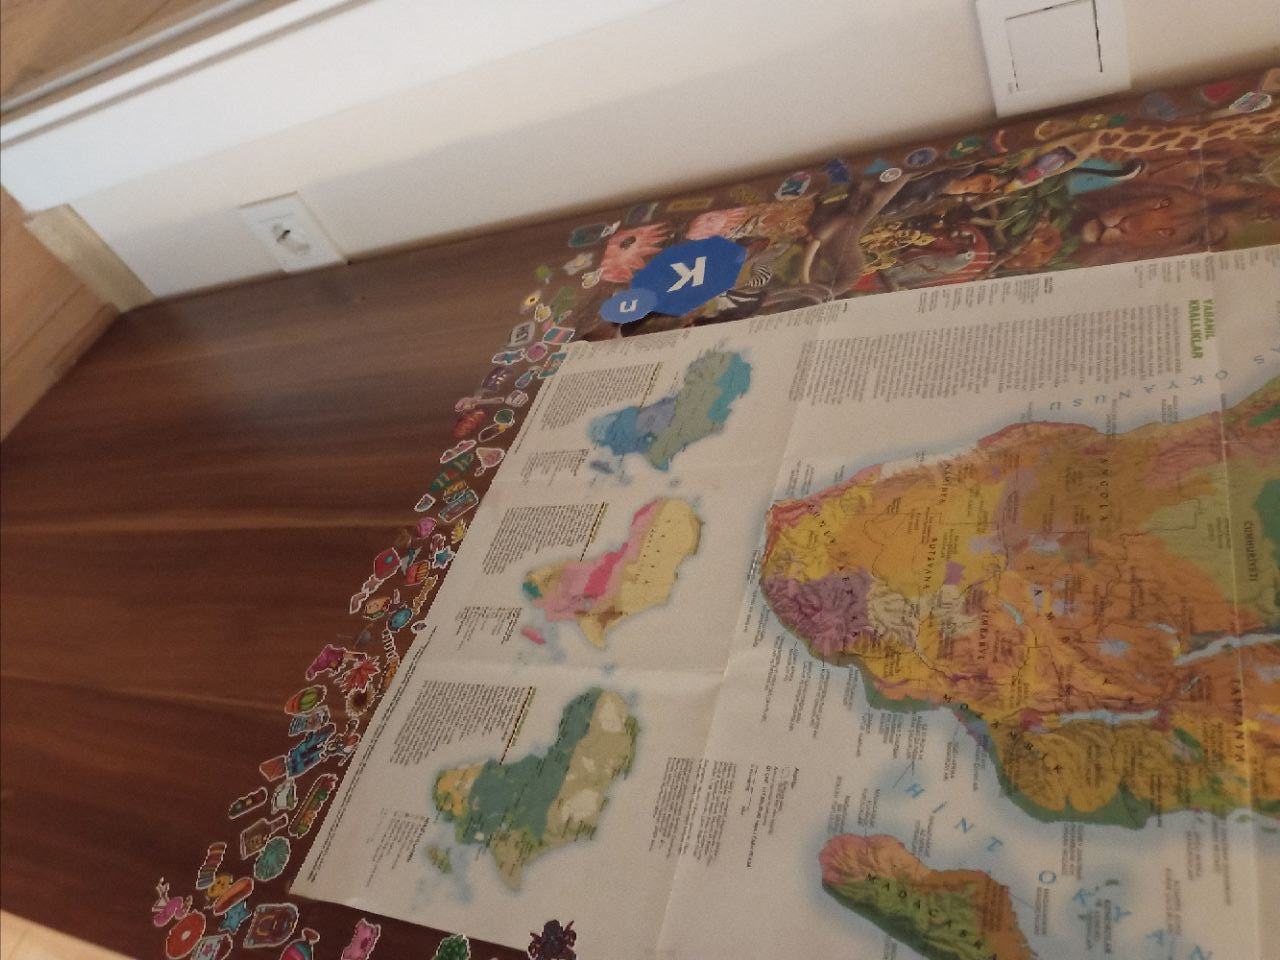knative: (599, 239, 743, 326)
